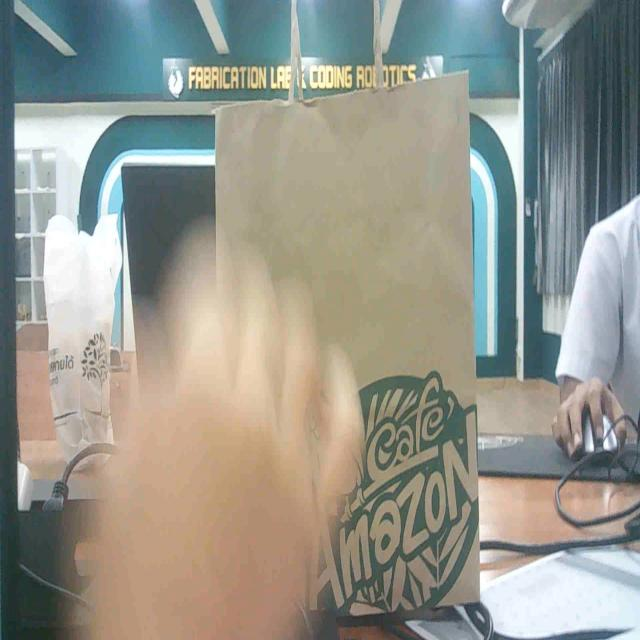bag: (200, 73, 505, 607)
